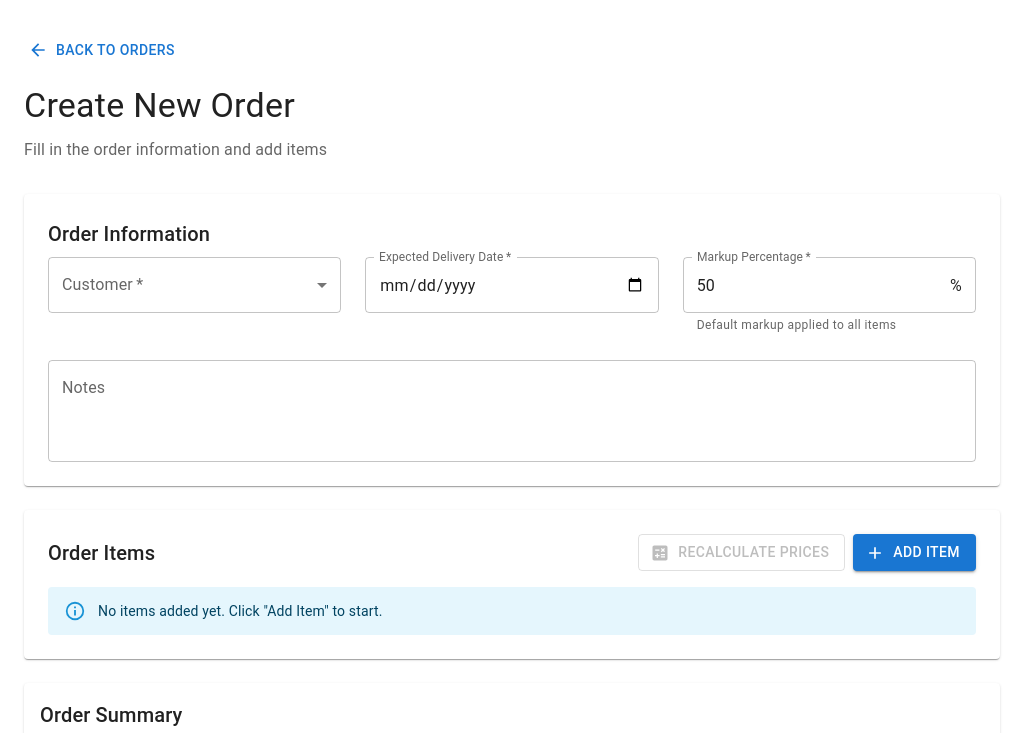
Test: OrderForm Page › Dynamic Order Items Array › removes an item
Step 1. Click the button "Add Item" → (915, 553), box [853, 534, 976, 571]
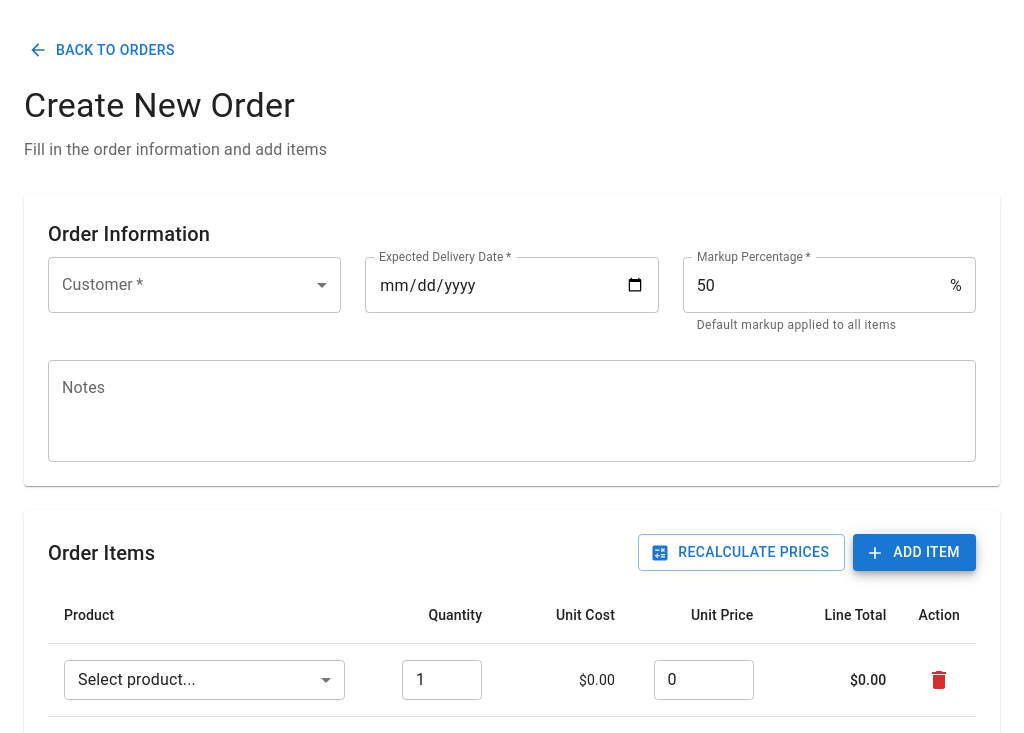
Step 2. Click the button "Add Item" → (915, 553), box [853, 534, 976, 571]
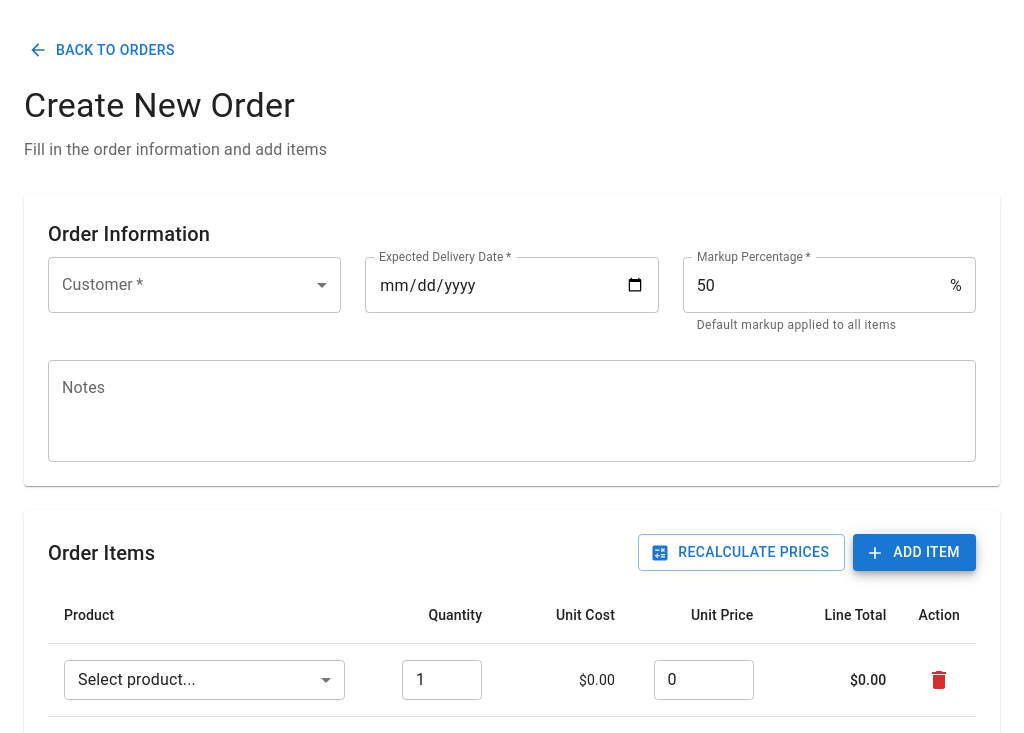
Step 3. Click the 4th button → (939, 680), box [922, 663, 956, 697]
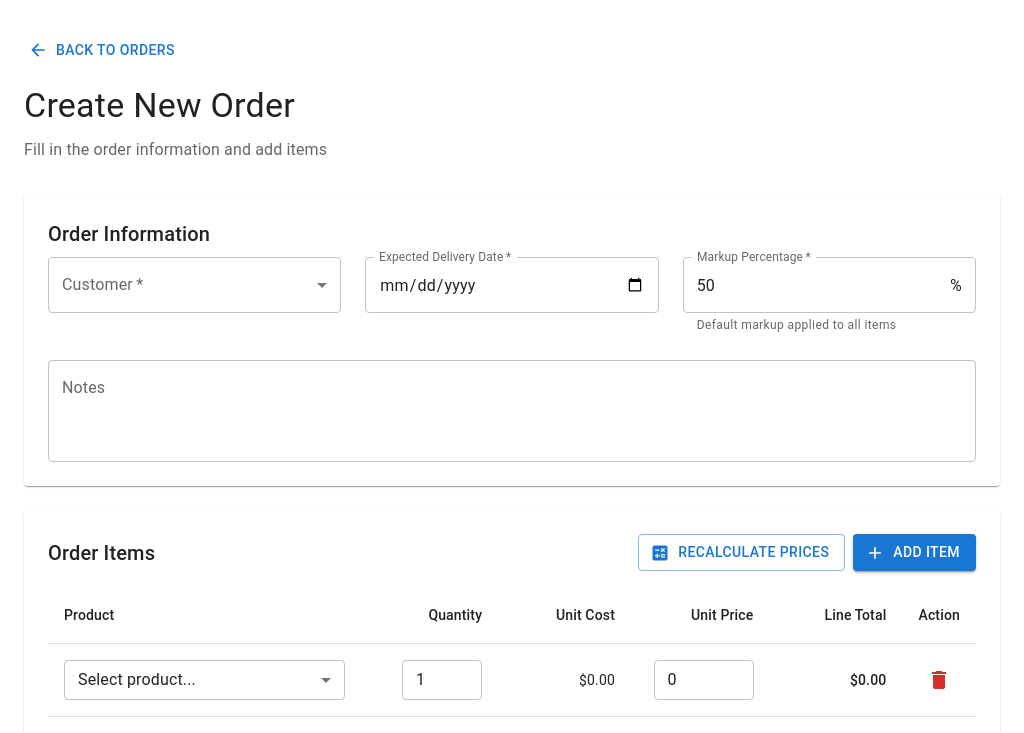
Expected: the number of rows is 2, [48, 587, 976, 643]; [48, 643, 976, 716]
